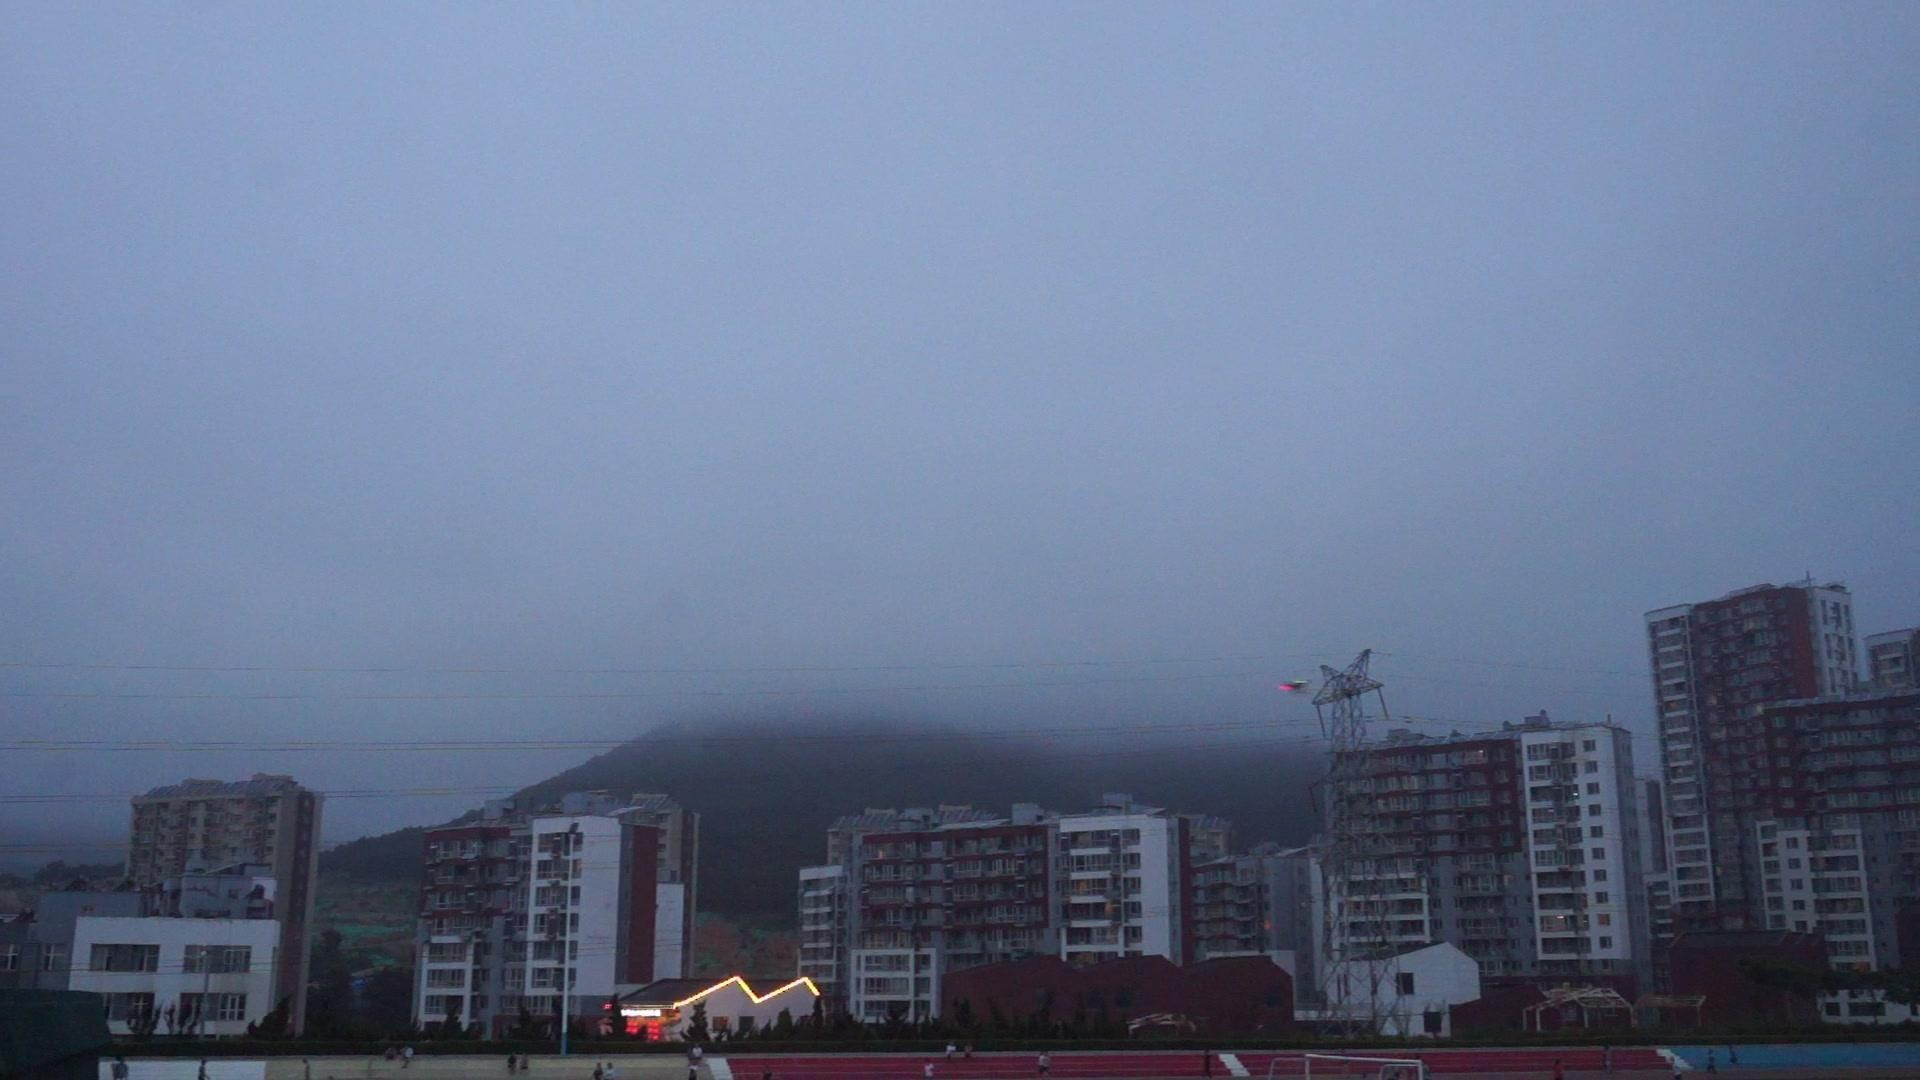UAV: (1279, 680, 1313, 695)
